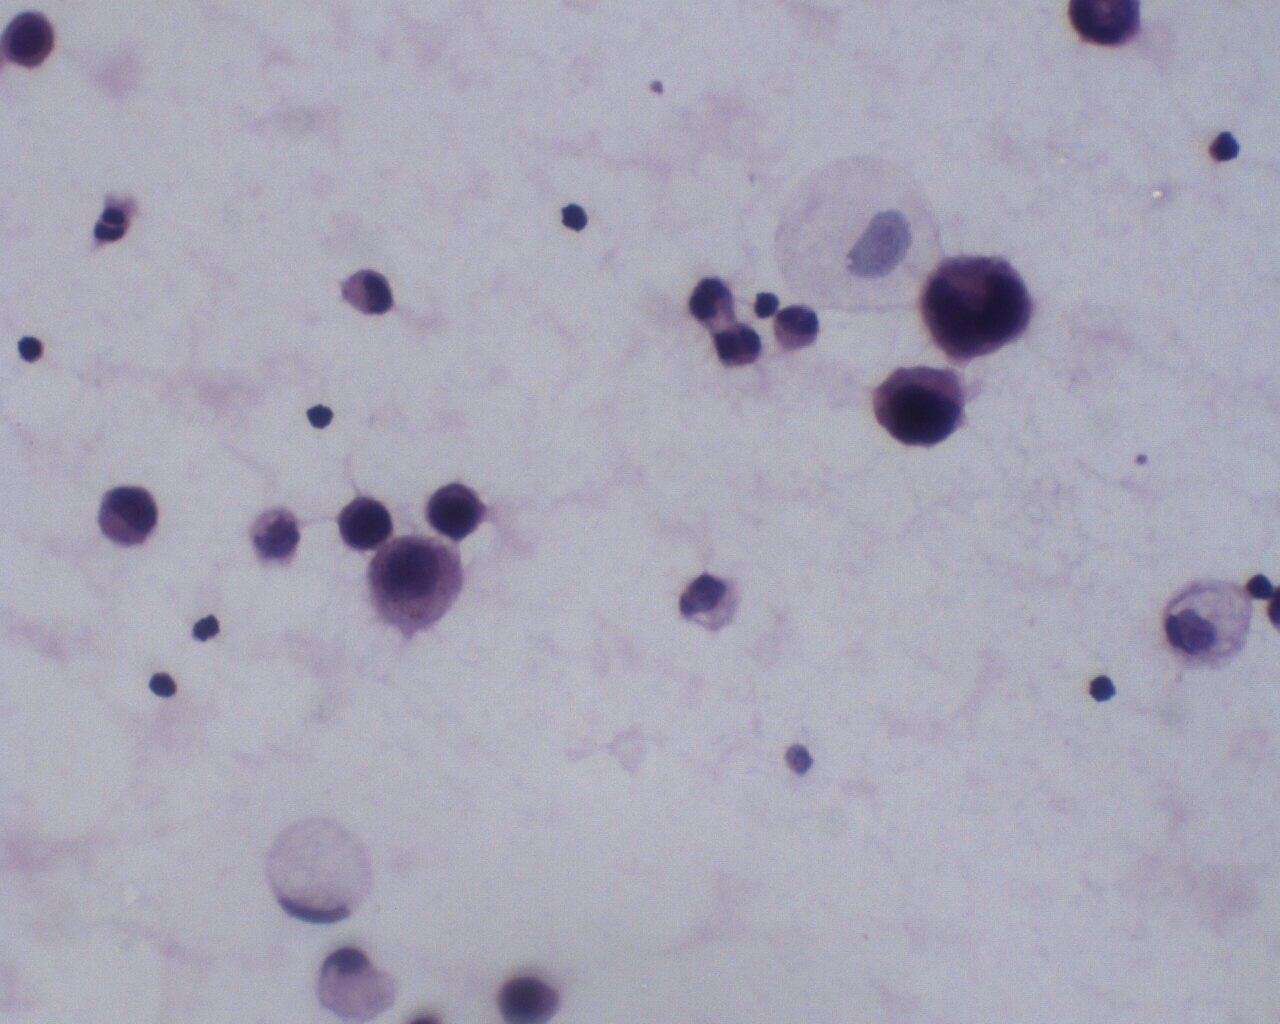ab: (920, 253, 1040, 365), (365, 533, 468, 643), (870, 359, 968, 453), (417, 472, 491, 541), (92, 484, 164, 553), (335, 497, 396, 555)
histo: (261, 813, 379, 928), (1160, 574, 1259, 667)
lymph: (15, 329, 52, 371), (141, 664, 176, 706), (1088, 668, 1123, 707)
